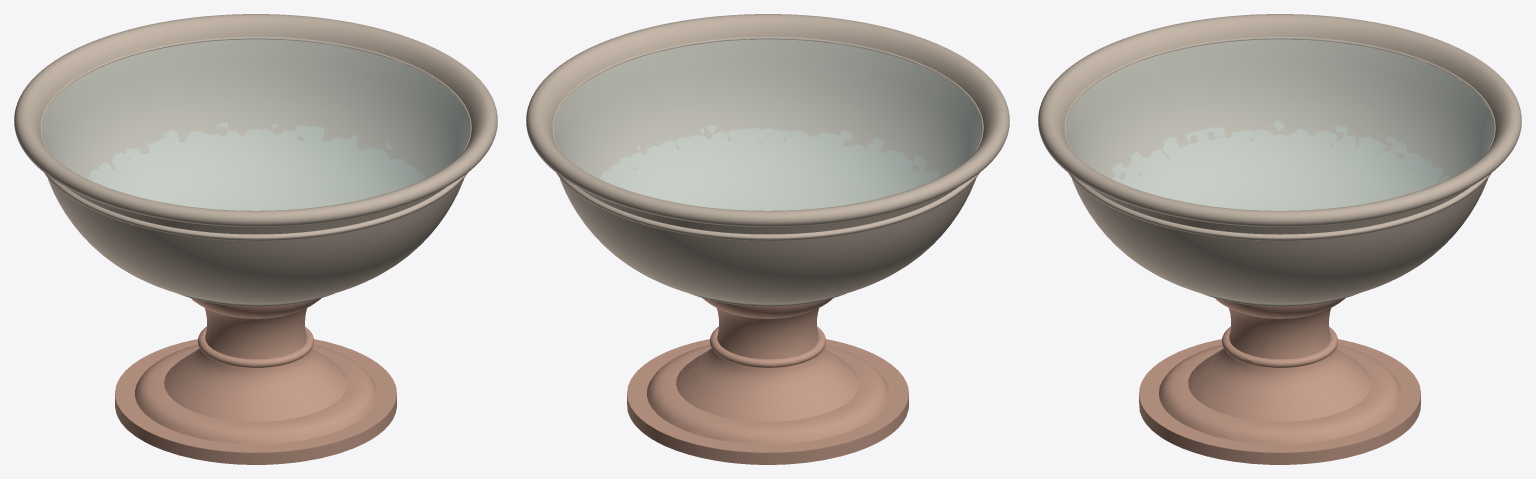
3 views of the same model, side by side, from view 1: azimuth 30°, elevation 25°; view 2: azimuth 150°, elevation 25°; view 3: azimuth 270°, elevation 25° (orthographic).
Parts seen in each view (by area): view 1: Kiyor2, agua, Kano; view 2: Kiyor2, agua, Kano; view 3: Kiyor2, agua, Kano.
Part boxes in pixels (x1,y1,x2,y2): Kiyor2: (14, 14, 497, 306); agua: (42, 38, 469, 210); Kano: (115, 298, 396, 464); Kiyor2: (526, 14, 1009, 306); agua: (554, 38, 981, 210); Kano: (627, 298, 908, 464); Kiyor2: (1038, 14, 1521, 306); agua: (1066, 38, 1493, 210); Kano: (1139, 298, 1420, 464).
Bounding box in the file's own units: 1.2 × 0.8 × 1.2.
